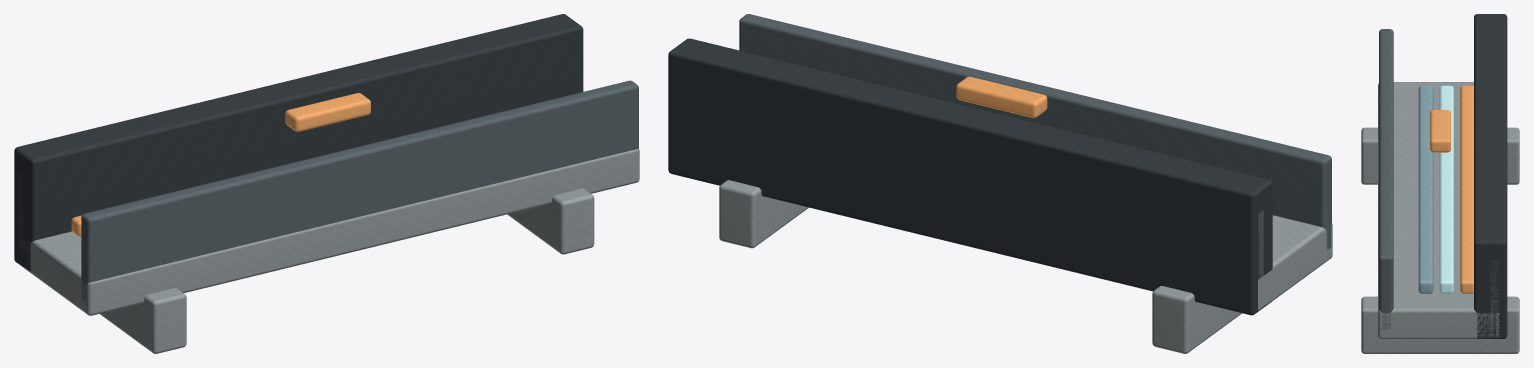
Rendered from CableTray.glb.
3 renders of one model, left to right at view 1: azimuth 30°, elevation 25°; view 2: azimuth 150°, elevation 25°; view 3: azimuth 270°, elevation 25°, orthographic. The views are drawn at different scales.
Parts seen in each view (by area): view 1: CableTray_Mesh; view 2: CableTray_Mesh; view 3: CableTray_Mesh.
Boxes of the visible parts, box(x1,y1,x2,y2) form: CableTray_Mesh: box(14, 14, 639, 353); CableTray_Mesh: box(668, 14, 1332, 353); CableTray_Mesh: box(1361, 14, 1519, 353).
Size of the model in its own units: 1.3 by 0.3675 by 0.38.
Materials: 6 (6 with a texture image).
